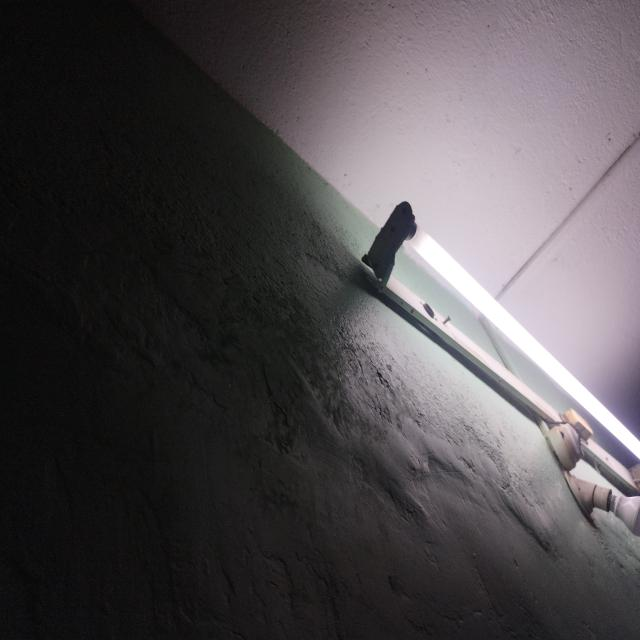tubelight_on: (362, 201, 640, 500)
